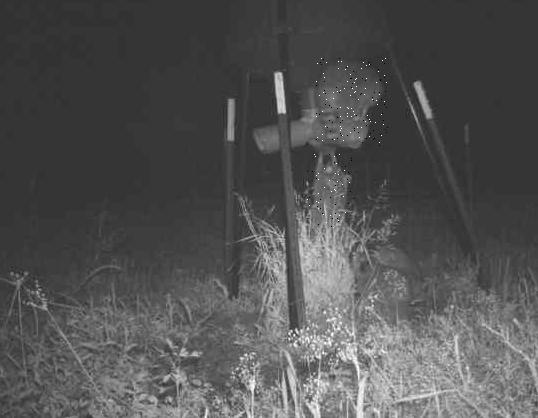Raccoon: (317, 59, 389, 147), (307, 153, 354, 227)
